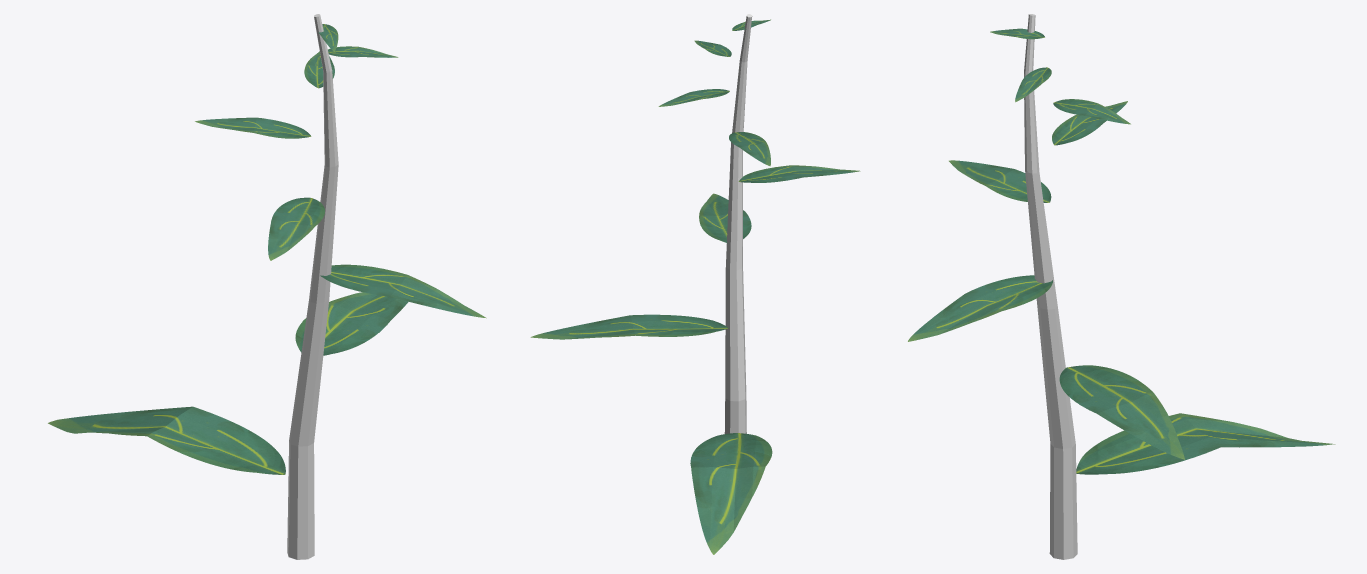
Rendered from eucalyptus_small.fbx.
3 renders of one model, left to right at view 1: azimuth 30°, elevation 25°; view 2: azimuth 150°, elevation 25°; view 3: azimuth 270°, elevation 25°, orthographic. The views are drawn at different scales.
Parts seen in each view (by area): view 1: Cylinder.021; view 2: Cylinder.021; view 3: Cylinder.021.
Boxes of the visible parts, box(x1,y1,x2,y2) form: Cylinder.021: box(48, 14, 486, 559); Cylinder.021: box(530, 14, 860, 554); Cylinder.021: box(908, 14, 1335, 559).
Bounding box in the file's own units: 143 × 212 × 163.
